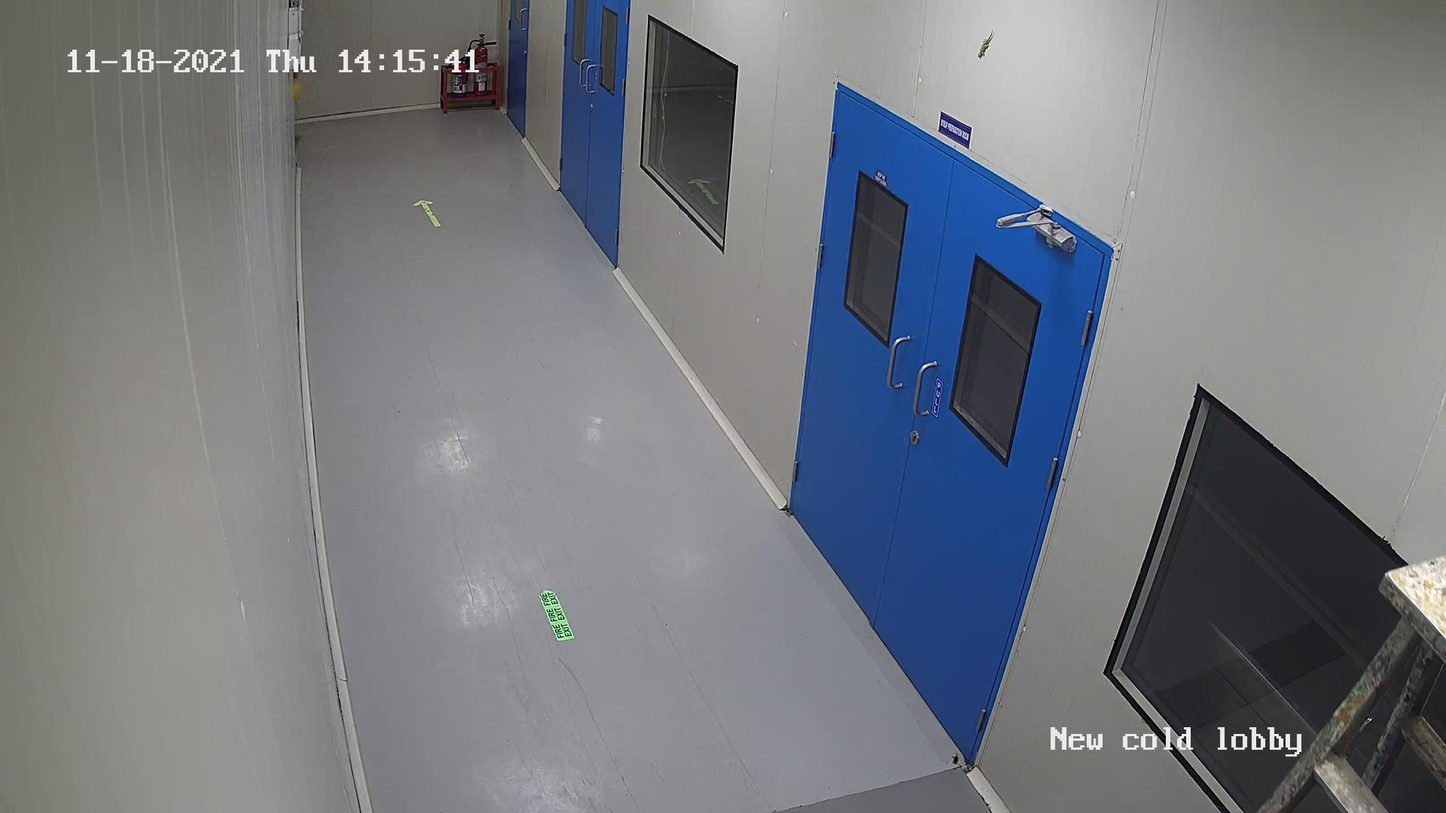cockroach: (949, 745, 965, 772)
lizard: (970, 25, 998, 65)
